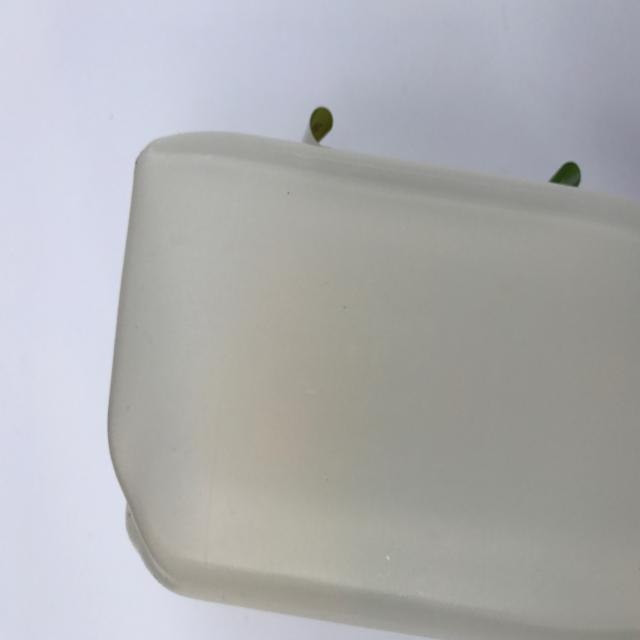plastic: (106, 124, 640, 640)
